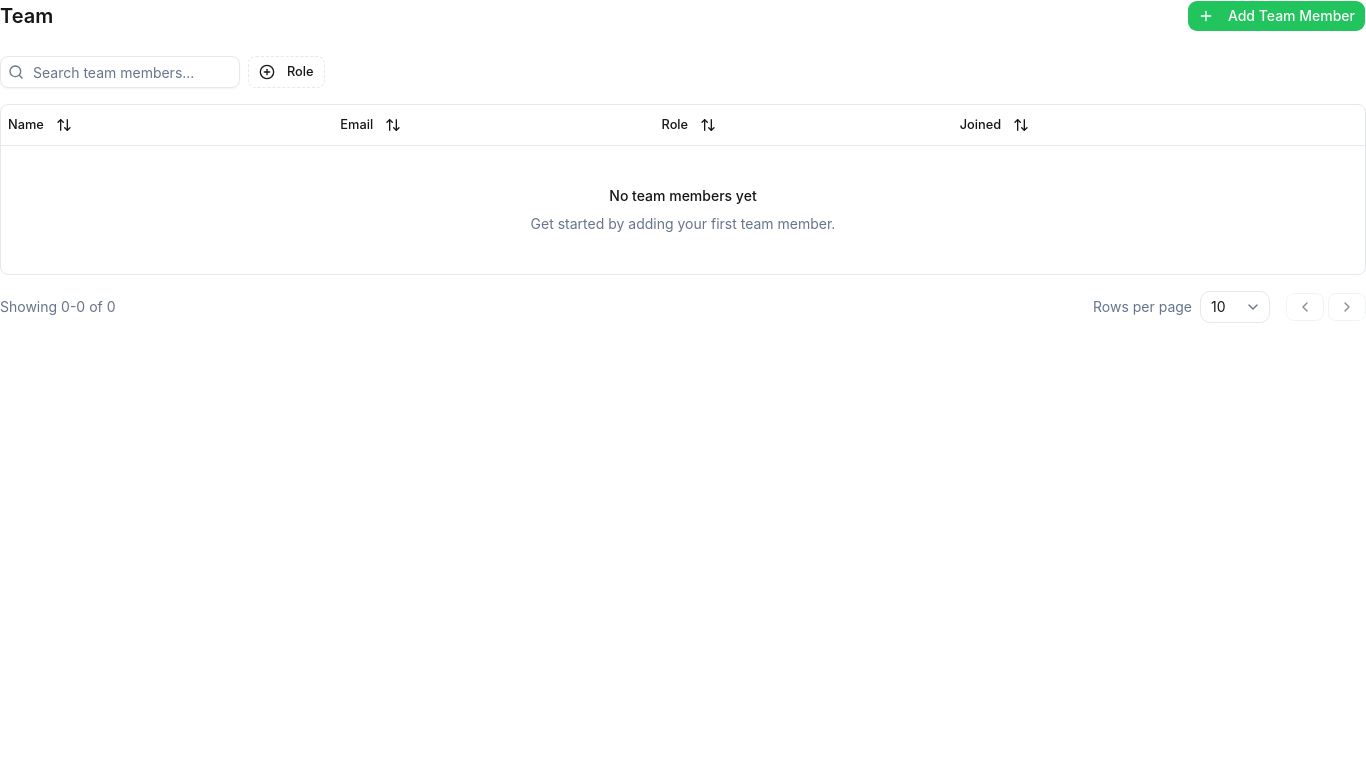
it: Team page (TENANT-05 Org Admin dialog) › opens create dialog with title 'Add team member' and member-role options (no Platform Role)
The width and height of the screenshot is (1366, 768).
Click the button "Add Team Member" at point(1276, 16), box [1187,0,1365,32]
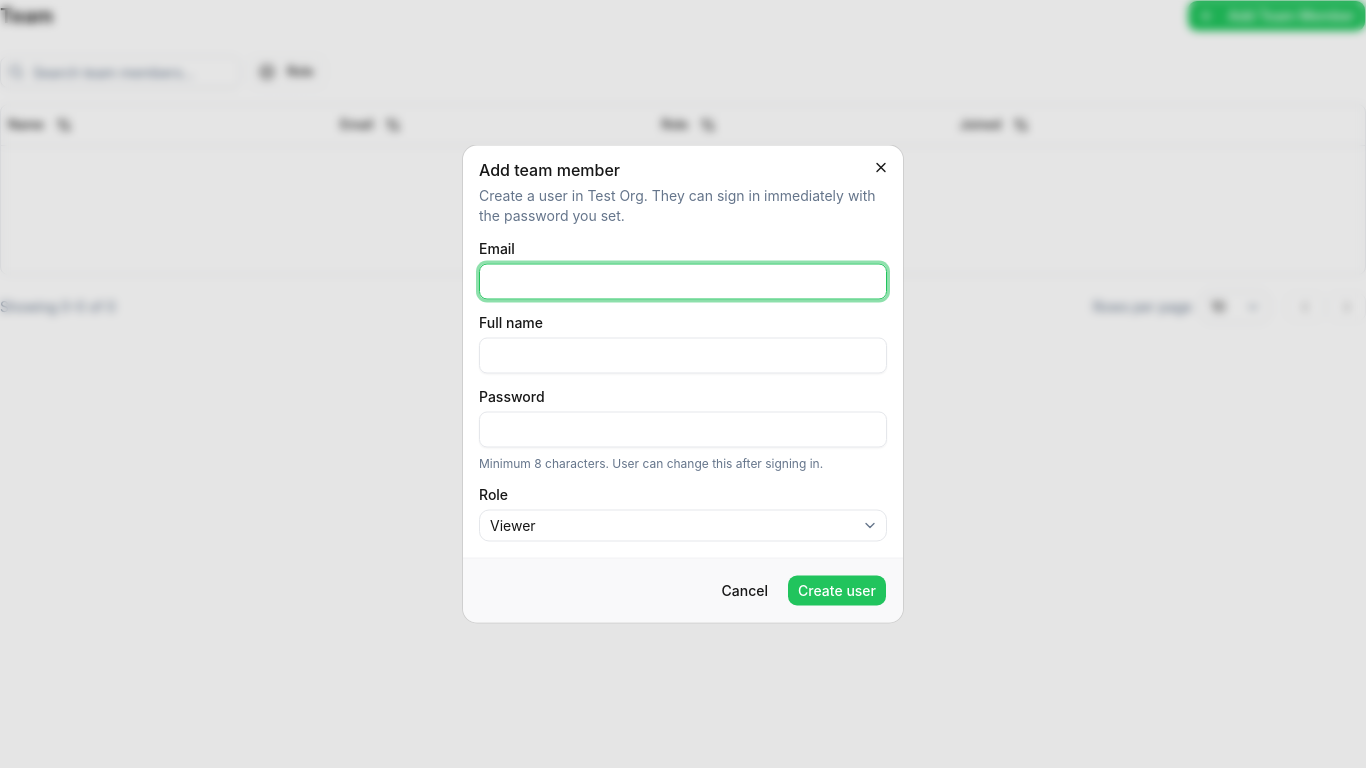
Now the heading "Add team member" is shown, box [479,160,620,180]
# Open the role Select to verify option labels for member roles only.
Click the dropdown named "Role" at point(513, 525), box [479,510,887,542]
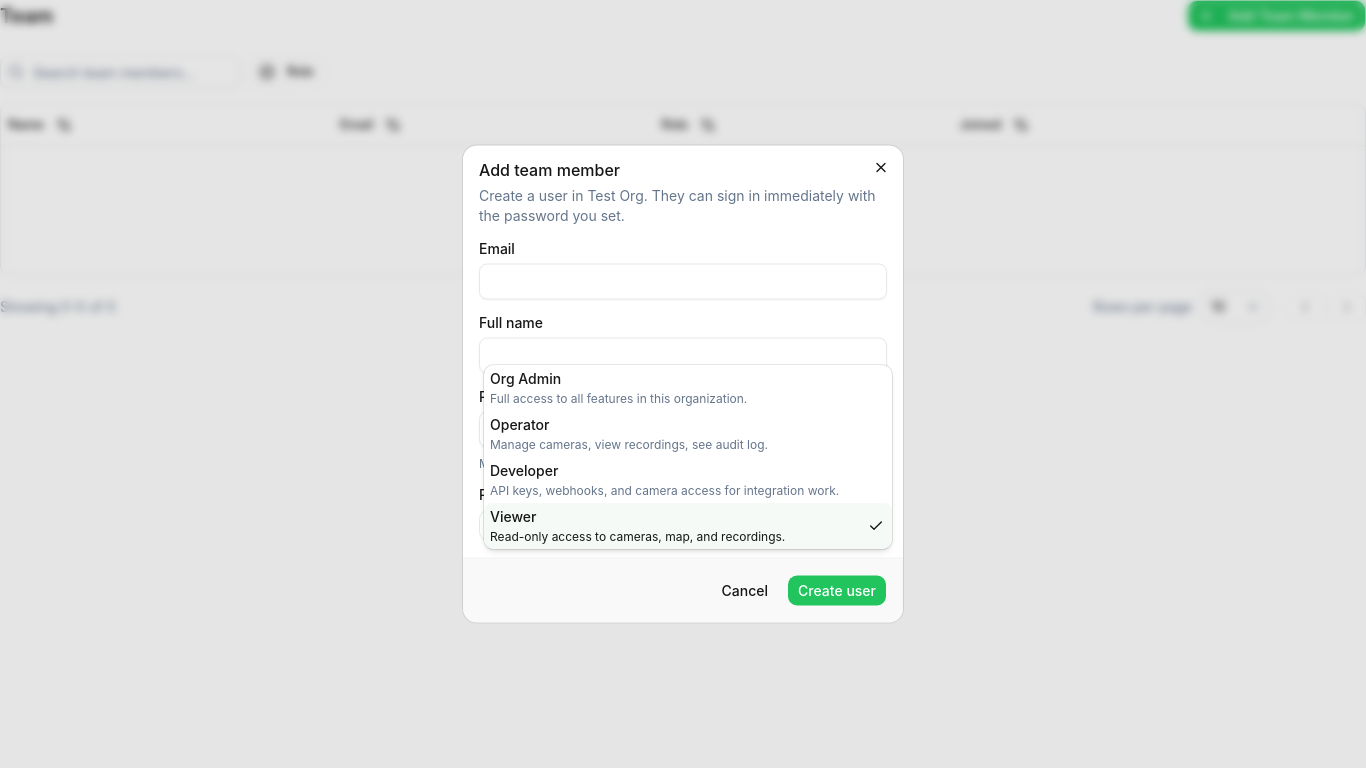
Now the option "Org Admin Full access to all features in this organization." is shown, box [490,370,747,406]
Now the option "Operator Manage cameras, view recordings, see audit log." is shown, box [490,416,768,452]
Now the option "Developer" is shown, box [484,456,892,502]
